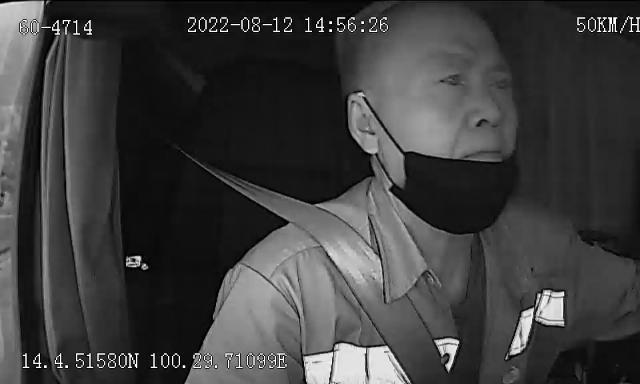SafeDriving: (430, 59, 473, 95), (482, 65, 520, 98)
Seatbelt: (178, 140, 456, 384)
